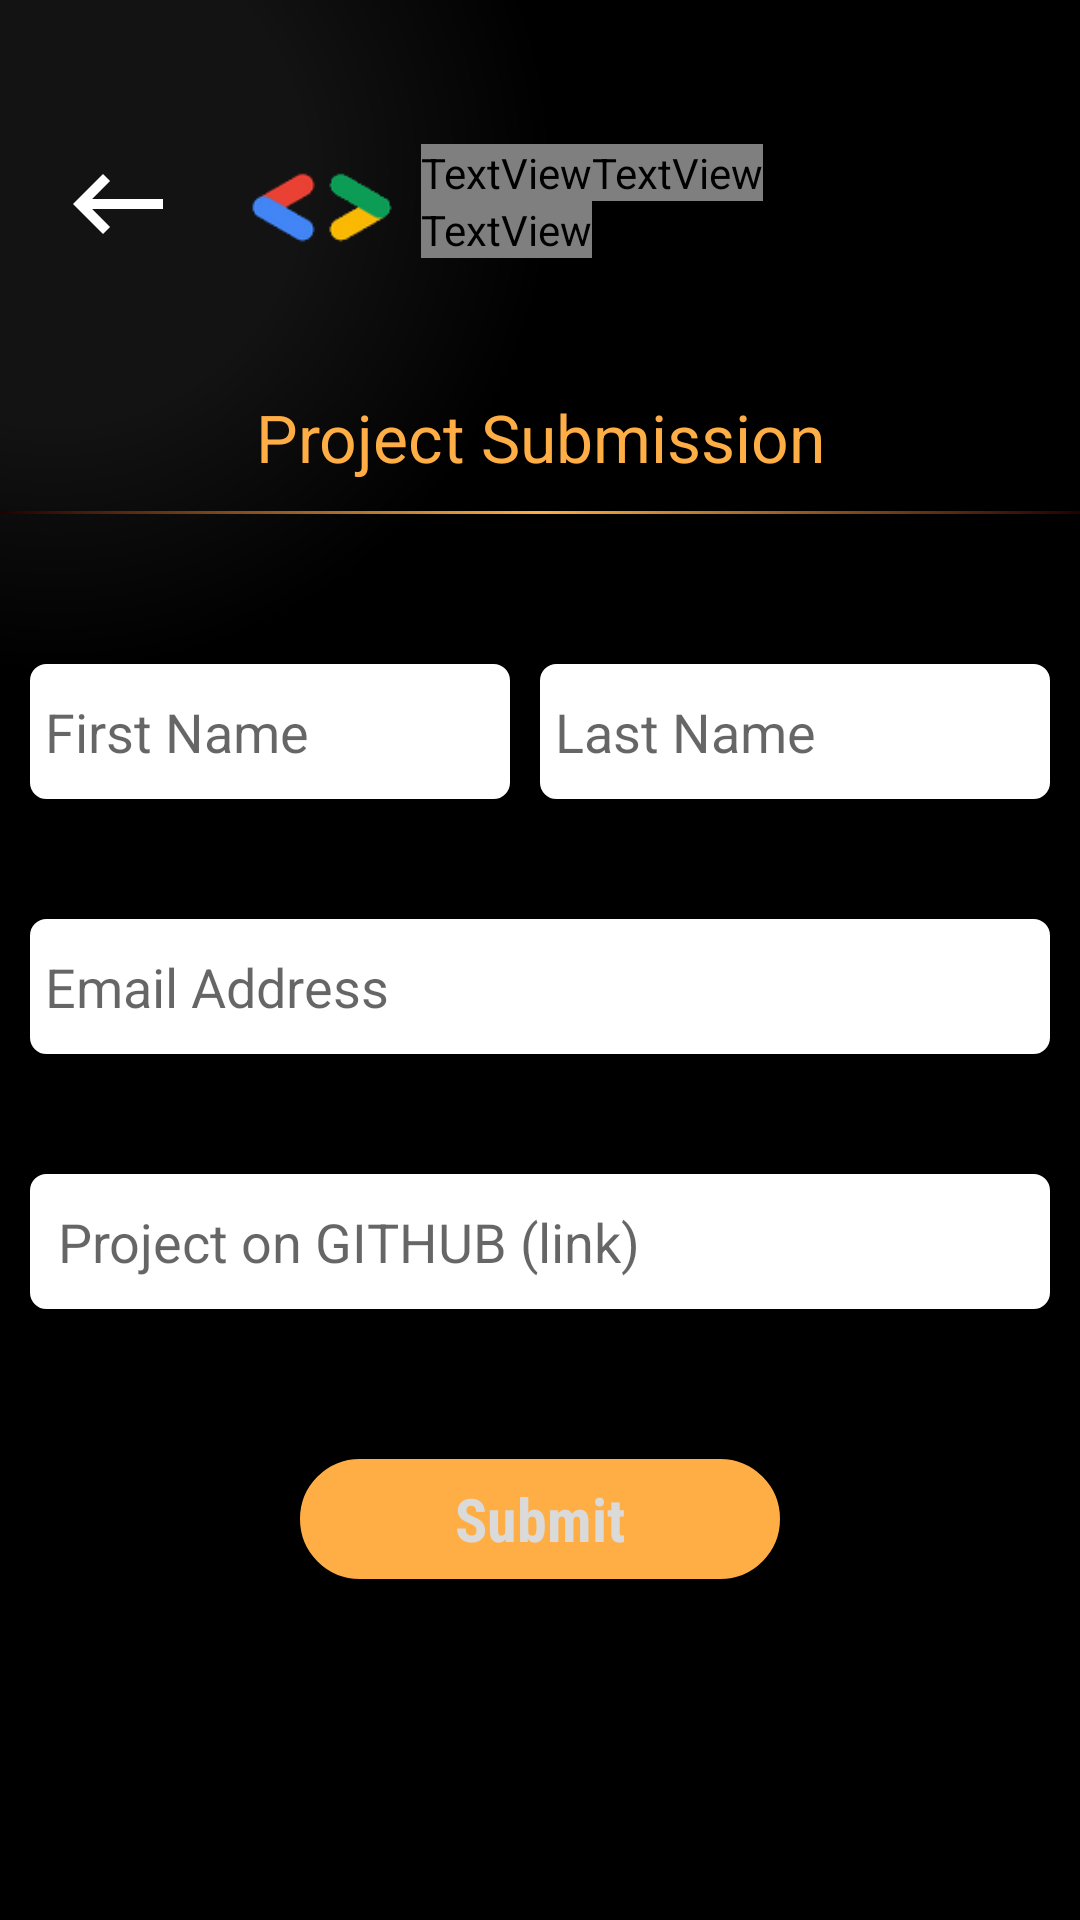

Named icons in this screenshot (1080px×1920px) and their bounding boxes, (x1, y1, x2, y2):
keyboard backspace: (73, 174, 163, 234)
